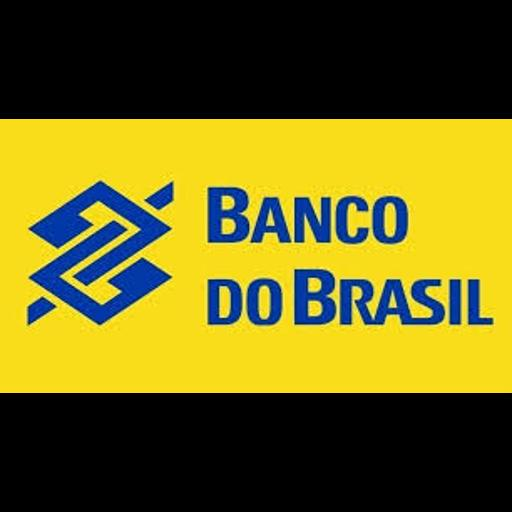Banco do Brasil S-A: (0, 119, 512, 393)
